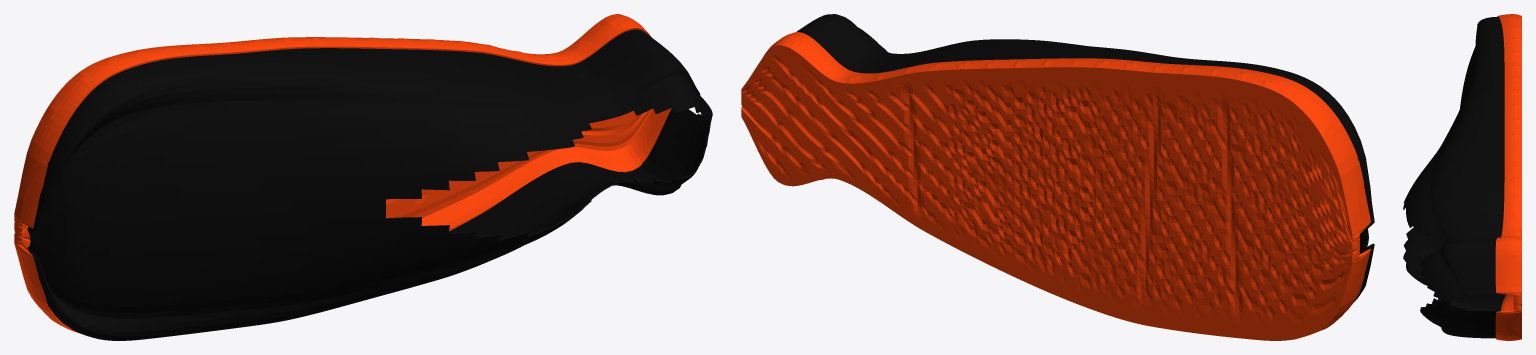
The model's file is left_textile_concept_assembly.obj.
3 renders of one model, left to right at view 1: azimuth 30°, elevation 25°; view 2: azimuth 150°, elevation 25°; view 3: azimuth 270°, elevation 25°, orthographic. The views are drawn at different scales.
Parts seen in each view (by area): view 1: left_textile_upper_preview_only, left_tpu_outsole; view 2: left_tpu_outsole, left_textile_upper_preview_only; view 3: left_textile_upper_preview_only, left_tpu_outsole.
Part boxes in pixels (x1=…): left_textile_upper_preview_only: x1=27, y1=29, x2=712, y2=340; left_tpu_outsole: x1=14, y1=14, x2=671, y2=333; left_tpu_outsole: x1=741, y1=32, x2=1370, y2=340; left_textile_upper_preview_only: x1=796, y1=14, x2=1374, y2=301; left_textile_upper_preview_only: x1=1403, y1=17, x2=1504, y2=338; left_tpu_outsole: x1=1495, y1=14, x2=1521, y2=340.
Size of the model in its own units: 279 by 118 by 65.84.
